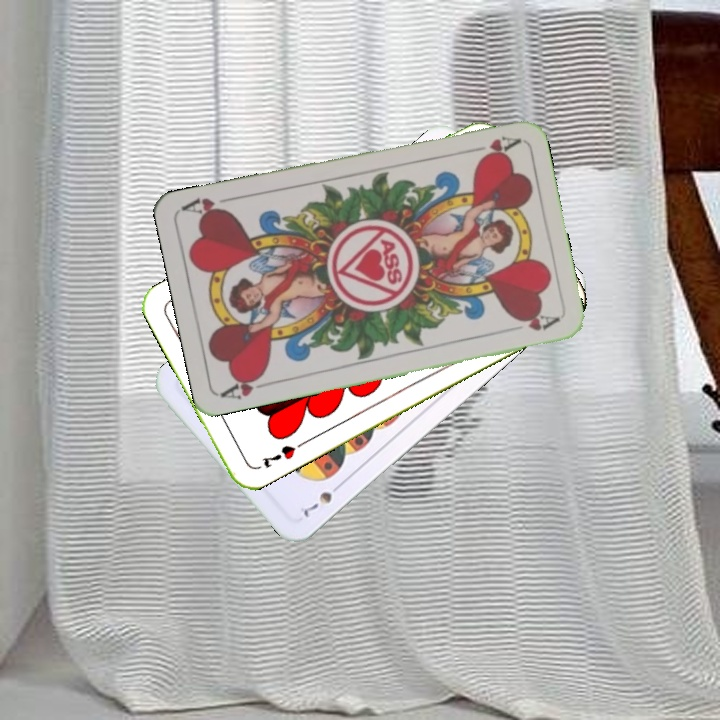H7: (258, 441, 299, 471)
HA: (217, 369, 276, 402), (462, 132, 521, 161)
S7: (299, 478, 346, 520)
